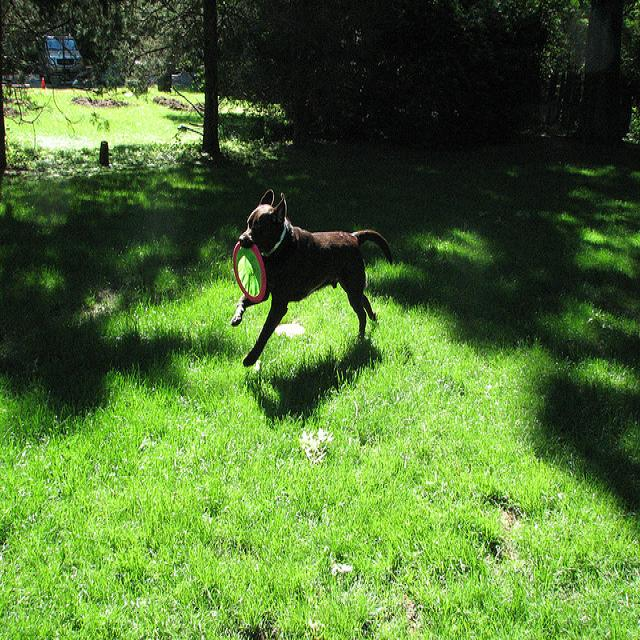Vehicle: (34, 34, 84, 83)
